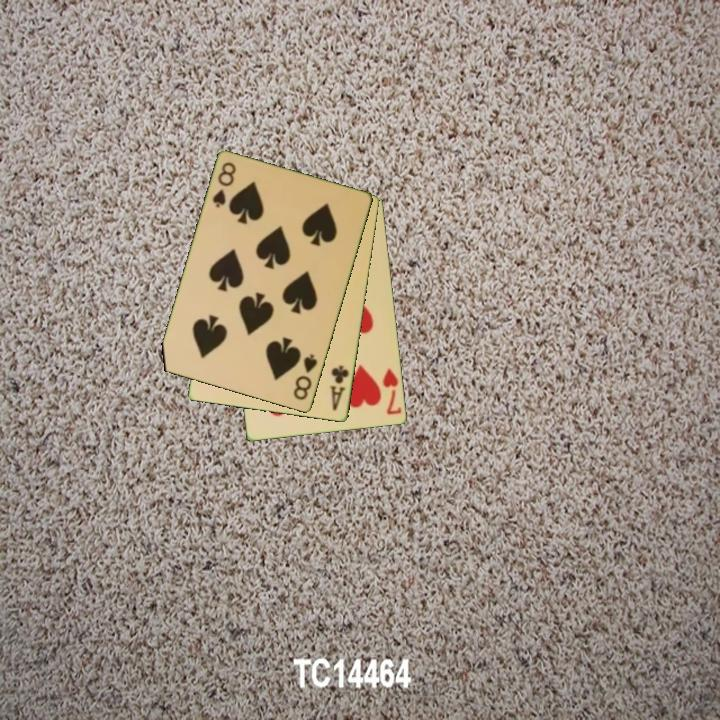7h: (379, 365, 405, 418)
8s: (290, 351, 320, 403), (209, 159, 239, 211)
Ac: (326, 362, 352, 414)
